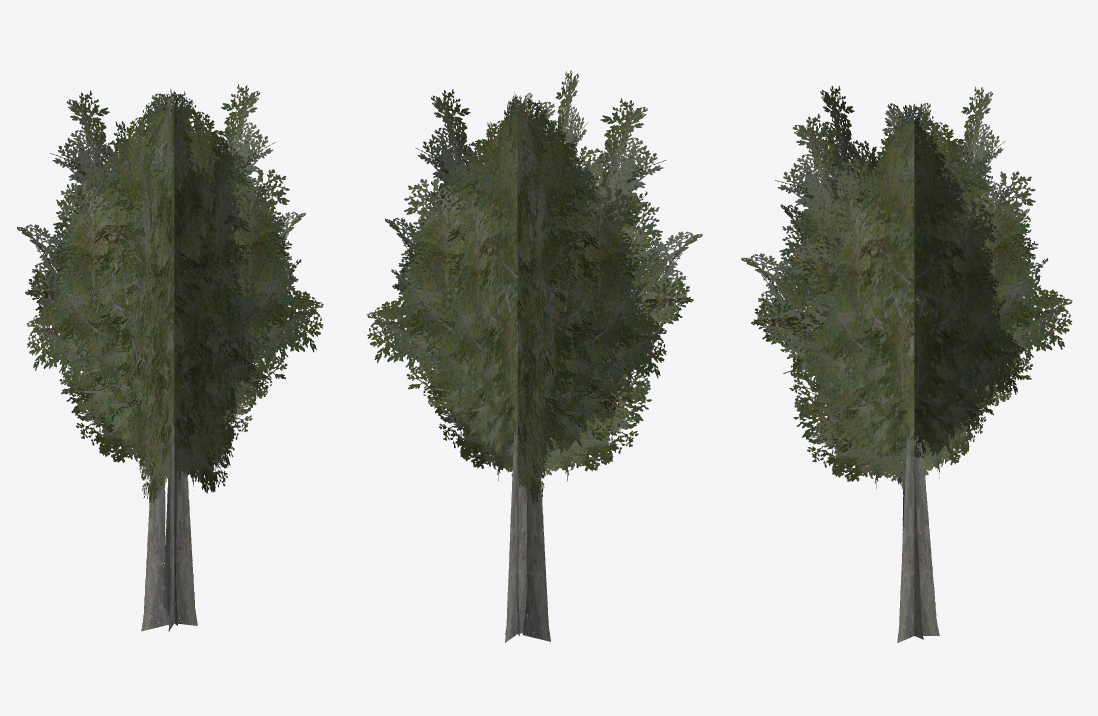
The model's file is tree21.glb.
The picture shows the model from 3 angles, left to right: view 1: azimuth 30°, elevation 25°; view 2: azimuth 150°, elevation 25°; view 3: azimuth 270°, elevation 25°; orthographic projection.
Parts seen in each view (by area): view 1: 3_LOD3.001; view 2: 3_LOD3.001; view 3: 3_LOD3.001.
Boxes of the visible parts, x1=… form: 3_LOD3.001: x1=17, y1=84, x2=323, y2=631; 3_LOD3.001: x1=367, y1=70, x2=702, y2=642; 3_LOD3.001: x1=741, y1=86, x2=1072, y2=642.
Size of the model in its own units: 8.17 by 14.84 by 8.58.
1 material, 1 textured.
